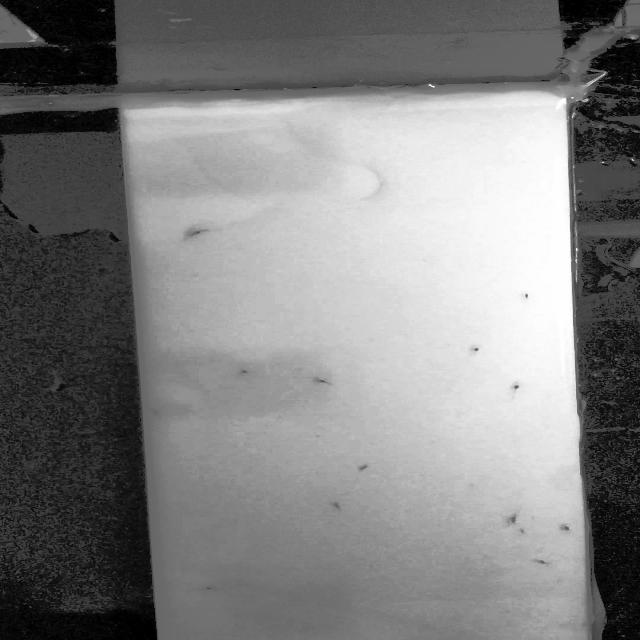shrimp: (176, 228, 217, 240), (189, 583, 229, 595), (507, 379, 525, 398), (311, 376, 339, 388), (504, 510, 526, 524), (462, 346, 486, 358), (519, 291, 536, 306), (234, 367, 256, 377), (514, 525, 532, 537), (353, 461, 373, 471), (530, 558, 554, 566), (326, 501, 350, 509), (560, 526, 576, 536)
